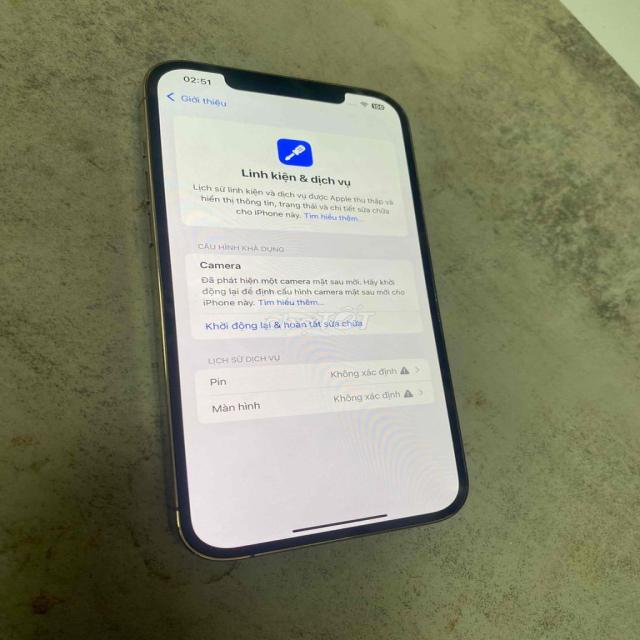gen_12_13: (134, 53, 482, 577)
